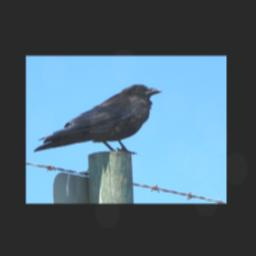Crow: (32, 83, 164, 155)
